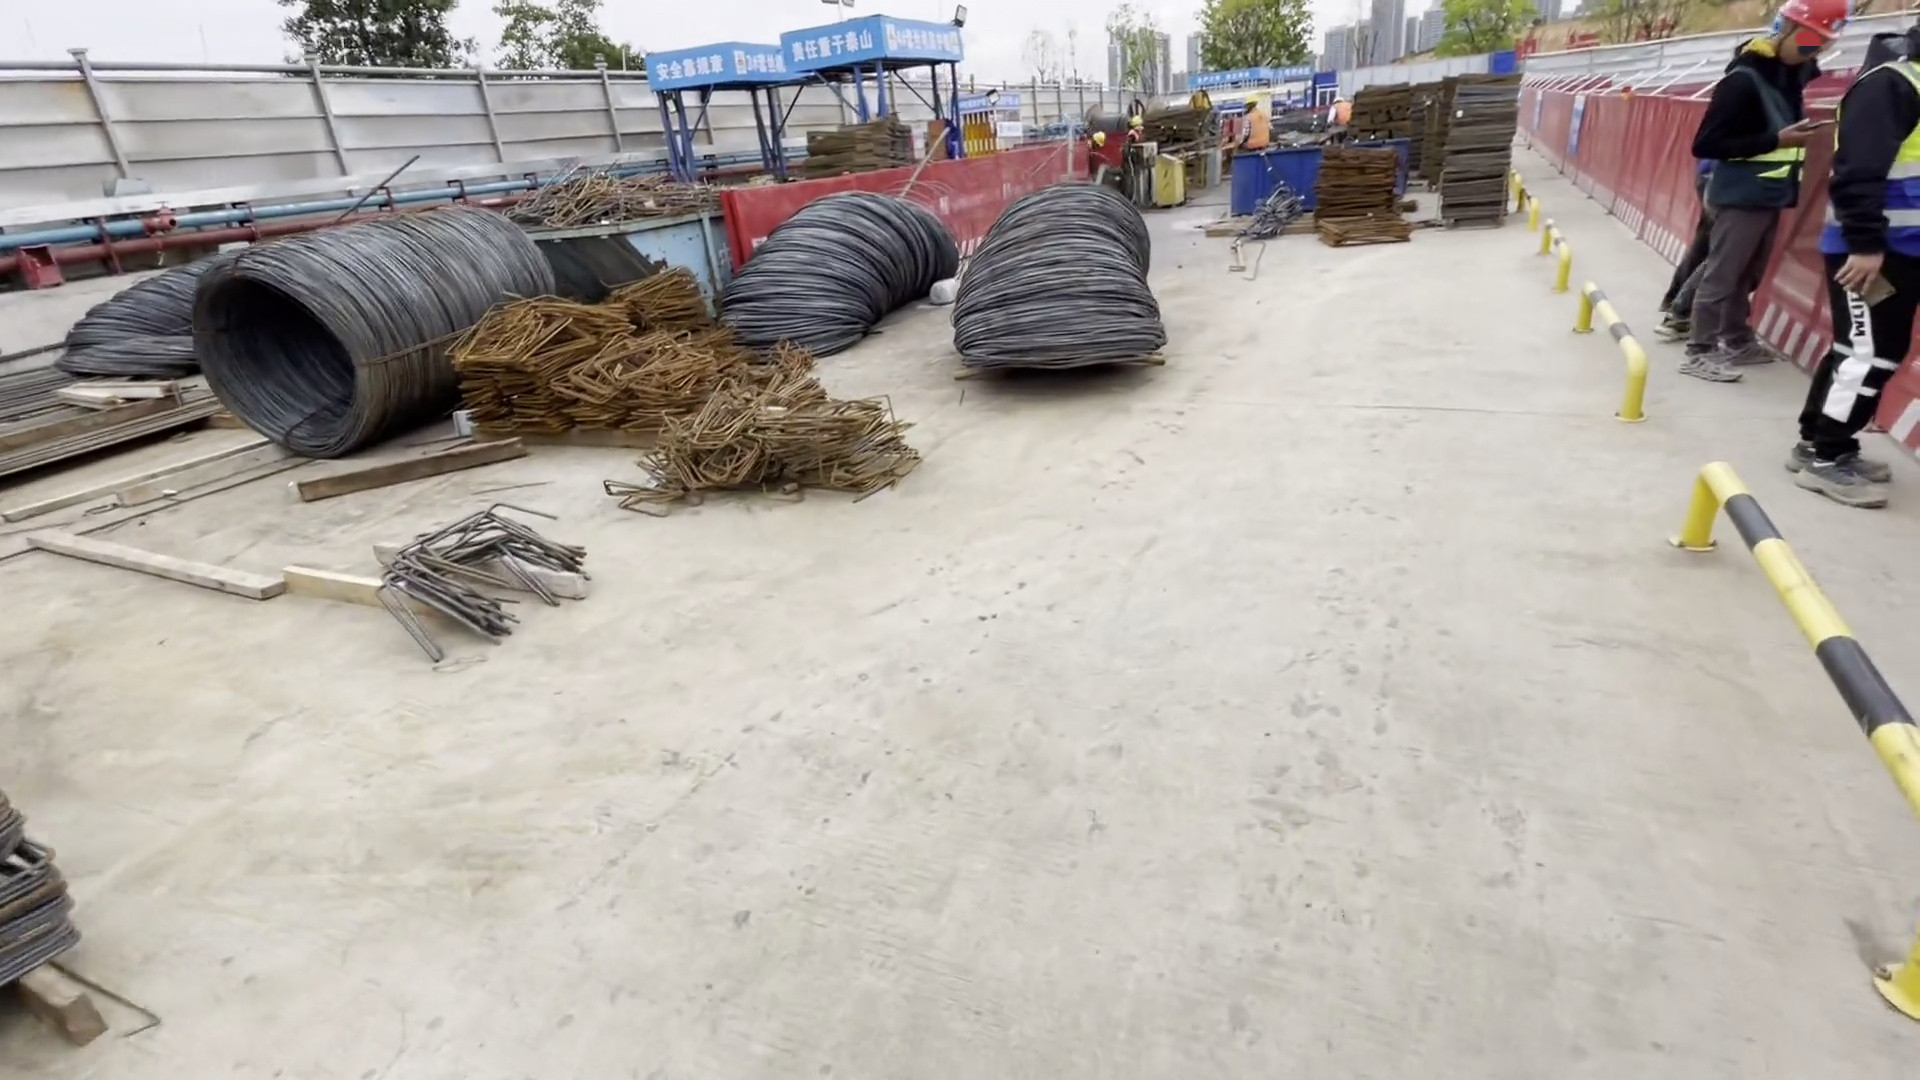fence: (738, 124, 1084, 274), (1511, 62, 1706, 271)
helmet: (1781, 1, 1836, 40), (1092, 131, 1103, 147), (1241, 93, 1256, 103)
hopper: (1225, 151, 1314, 212)
person: (1792, 16, 1920, 515), (1701, 1, 1819, 394), (1233, 99, 1267, 159), (1087, 132, 1106, 190), (1324, 96, 1352, 131), (1124, 115, 1141, 147)
slogan: (788, 34, 876, 54), (655, 52, 723, 77)
vest: (1829, 68, 1920, 255), (1750, 78, 1803, 201)
